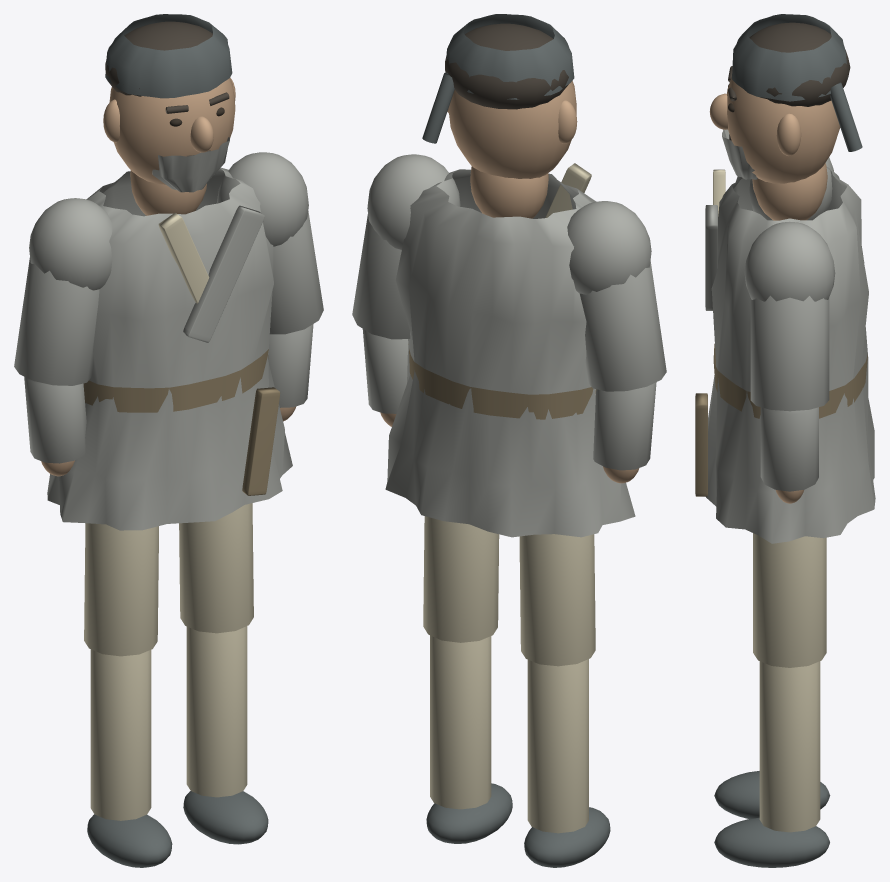
File: elder.glb
3 renders of one model, left to right at view 1: azimuth 30°, elevation 25°; view 2: azimuth 150°, elevation 25°; view 3: azimuth 270°, elevation 25°, orthographic.
Visible parts, largest first — view 1: Cross-collar working coat.004, shin.008, shin.009, thigh.008, thigh.009, upper.008, Soft cloth cap.003, Face.004, Shoulder.008, Shoulder.009, fore.008, upper.009 (+11 smaller); view 2: Cross-collar working coat.004, shin.008, shin.009, thigh.008, thigh.009, upper.008, Face.004, Shoulder.008, Soft cloth cap.003, Hair crown.004, Shoulder.009, fore.008 (+9 smaller); view 3: Cross-collar working coat.004, shin.009, thigh.009, upper.009, Face.004, Shoulder.009, Soft cloth cap.003, fore.009, Cloth shoe.009, Hair crown.004, Neck.004, Cloth shoe.008 (+9 smaller).
Boxes of the visible parts, x1,y1,x2,y2 form: Cross-collar working coat.004: (47,167,292,530); shin.008: (90,649,151,820); shin.009: (186,626,247,797); thigh.008: (84,523,158,656); thigh.009: (179,503,253,633); upper.008: (14,258,99,385); Soft cloth cap.003: (105,14,232,98); Face.004: (109,77,235,184); Shoulder.008: (29,198,112,290); Shoulder.009: (217,152,308,246); fore.008: (24,376,86,463); upper.009: (269,211,323,334); Cross-collar working coat.004: (385,169,635,537); shin.008: (527,659,588,833); shin.009: (430,635,491,809); thigh.008: (519,534,595,666); thigh.009: (423,516,499,642); upper.008: (579,261,666,391); Face.004: (448,81,576,178); Shoulder.008: (567,201,651,294); Soft cloth cap.003: (446,14,574,99); Hair crown.004: (445,23,568,109); Shoulder.009: (367,154,460,249); fore.008: (593,382,656,470); Cross-collar working coat.004: (706,167,875,543); shin.009: (759,661,820,832); thigh.009: (753,533,826,667); upper.009: (750,295,829,411); Face.004: (727,76,840,183); Shoulder.009: (744,221,835,301); Soft cloth cap.003: (731,14,847,101); fore.009: (760,407,818,491); Cloth shoe.009: (714,817,829,867); Hair crown.004: (749,22,850,106); Neck.004: (752,163,827,220); Cloth shoe.008: (714,771,830,818).
Size of the model in its own units: 0.6841 by 1.77 by 0.3575.
